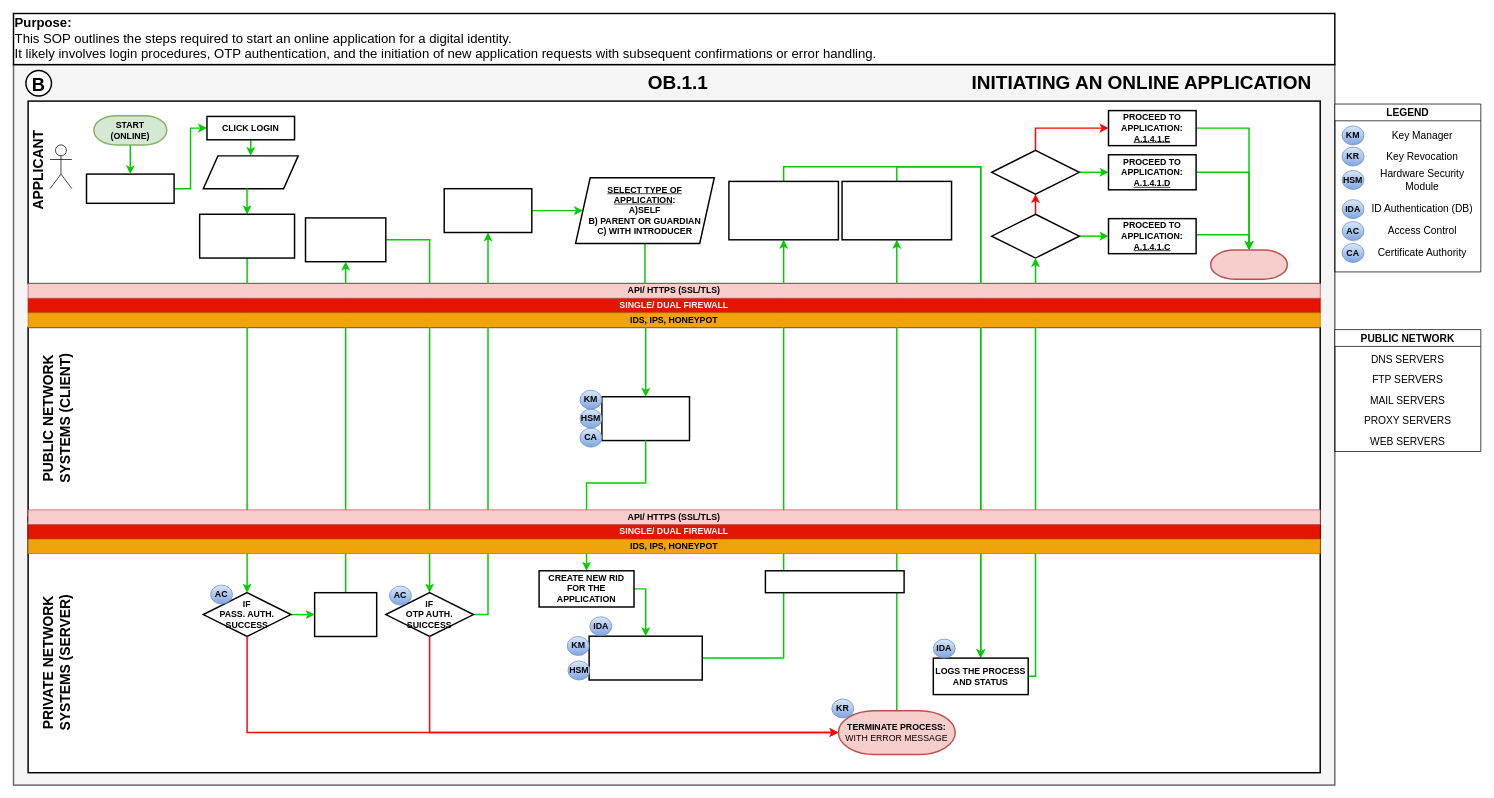
This 1494x798 diagram has some shape labels left out. The centre of each missing label's shape, as x and y in pixels:
AUTHENTICATE USING OTP B.2.4.1.B: (345,239)
END: (1249,264)
ENTER EMAIL AND PASSWORD: (250,172)
GENERATE OTP B.2.4.1.A: (345,614)
HOME PAGE: CLICK START APPLICATION: (487,210)
IF APPLY FOR SELF: (1035,235)
IF PARENT OR GUARDIAN: (1035,172)
MASK & ENCRYPT APPLICATION DETAILS: (645,418)
NOTIFICATION GENERATOR: (834,581)
PASSWORD AUTHENTICATION B.1.4.1.A: (247,235)
RECEIVE NEW APPLICATION FAILURE NOTIFICATION WITH ERROR MESSAGE: (896,210)
RECEIVE NEW APPLICATION INITIATED NOTIFICATION WITH RID: (783,210)
STORE RID & APPLICATION INFORMATION: (645,657)
USER: (60,166)
VISIT DID PORTAL: (129,188)
